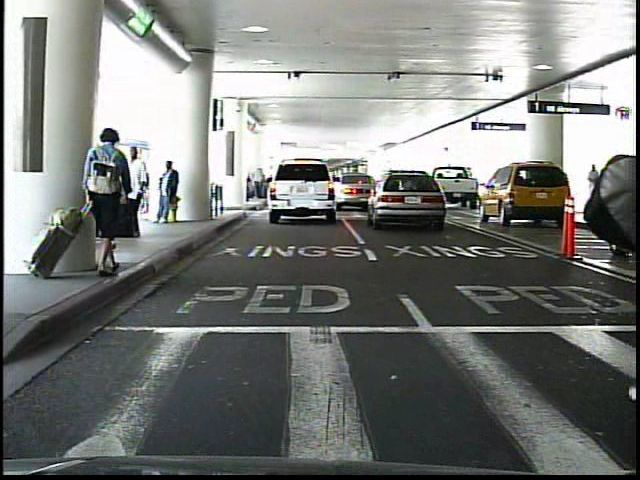person: (85, 125, 134, 280), (120, 145, 147, 239), (157, 161, 183, 228), (582, 165, 598, 213), (598, 166, 611, 210)
